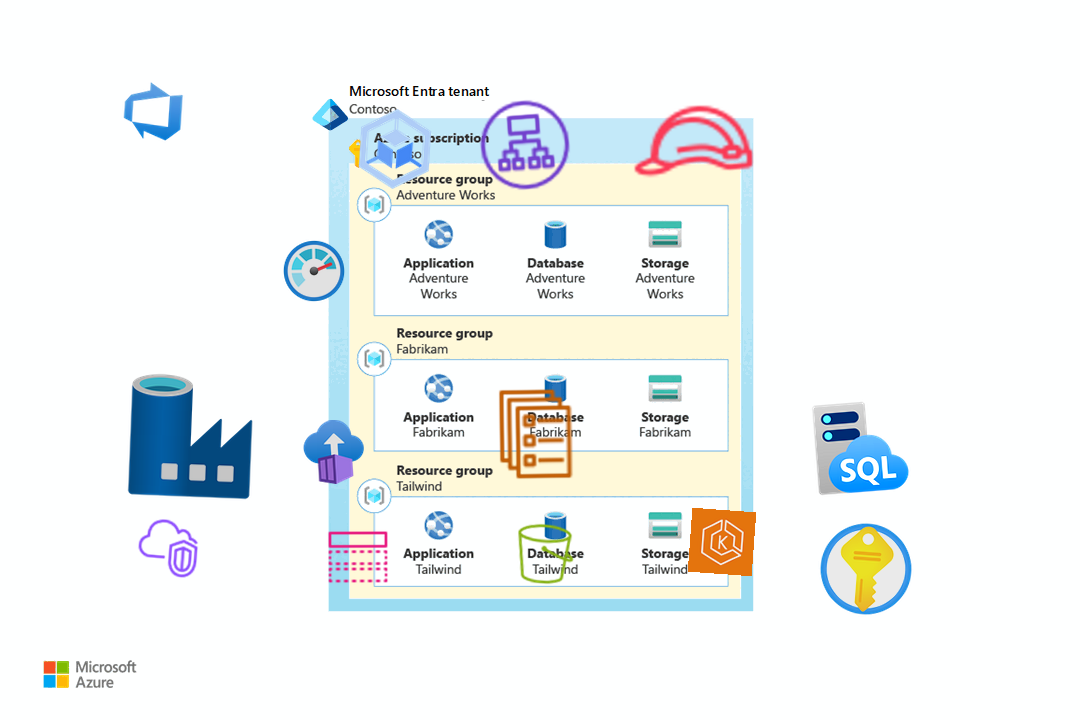aws_amazon_elastic_kubernetes_service: (687, 507, 757, 577)
aws_elastic_container_service_service: (487, 385, 585, 483)
aws_elastic_load_balancing_application_load_balancer: (473, 93, 577, 197)
aws_identity_access_management_role: (627, 75, 759, 207)
aws_simple_notification_service_topic: (325, 524, 391, 590)
aws_simple_storage_service_s3_standard: (510, 519, 580, 589)
aws_vpc_virtual_private_cloud_vpc: (133, 513, 203, 583)
azure_container_instances: (300, 418, 368, 486)
azure_data_factories: (124, 369, 258, 503)
azure_devops: (118, 76, 188, 146)
azure_key_vaults: (814, 517, 918, 621)
azure_monitor: (281, 238, 347, 304)
azure_sql_managed_instance: (809, 395, 913, 499)
gcp_google_kubernetes_engine: (344, 98, 446, 200)
